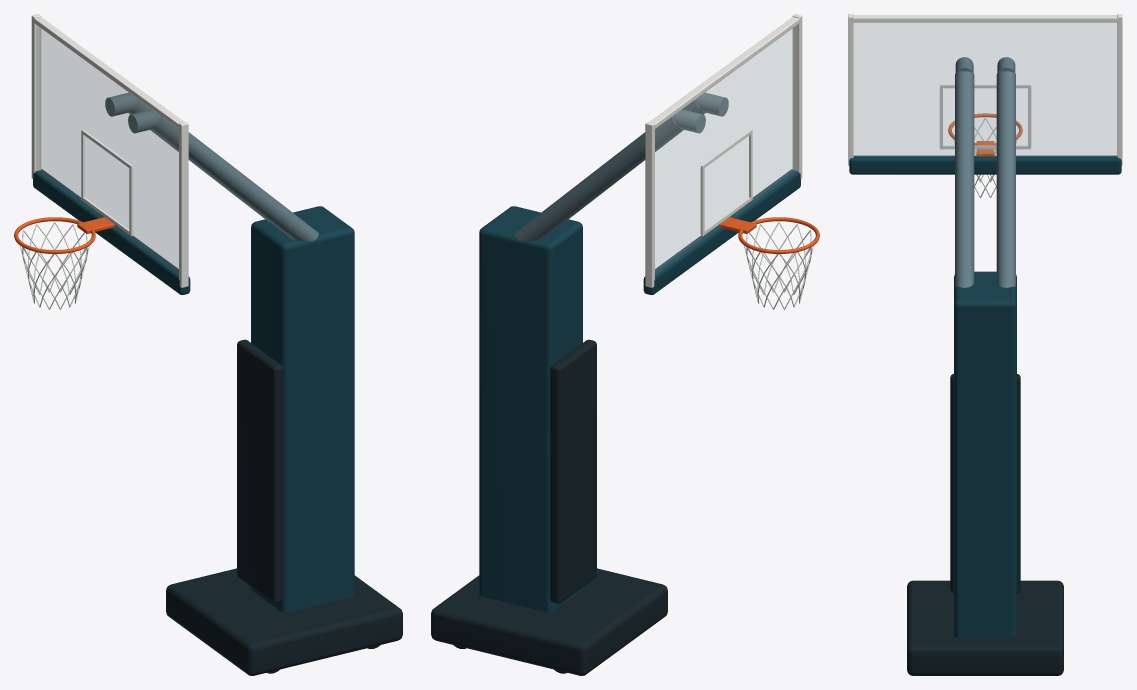
The model's file is hoop.glb.
The picture shows the model from 3 angles, left to right: view 1: azimuth 30°, elevation 25°; view 2: azimuth 150°, elevation 25°; view 3: azimuth 270°, elevation 25°; orthographic projection. The views are drawn at different scales.
Visible parts, largest first — view 1: Goal support mast, Tempered glass backboard, Weighted goal base, Goal safety padding, Cantilever strut.001, Protective backboard padding, Backboard frame.003, Backboard frame, Backboard frame.001, Rim_3_05m_450mm, Board mount, Board mount.001; view 2: Goal support mast, Tempered glass backboard, Weighted goal base, Goal safety padding, Cantilever strut, Protective backboard padding, Backboard frame.003, Backboard frame.001, Backboard frame, Rim_3_05m_450mm, Board mount.001, Board mount; view 3: Tempered glass backboard, Goal support mast, Weighted goal base, Protective backboard padding, Cantilever strut, Cantilever strut.001, Backboard frame.003, Goal safety padding, Backboard frame, Backboard frame.001.
Boxes of the visible parts, box(x1,y1,x2,y2) form: Goal support mast: box(251, 206, 354, 612); Tempered glass backboard: box(37, 26, 178, 274); Weighted goal base: box(166, 568, 402, 675); Goal safety padding: box(237, 339, 283, 603); Cantilever strut.001: box(151, 116, 318, 241); Protective backboard padding: box(33, 169, 190, 294); Backboard frame.003: box(32, 17, 184, 128); Backboard frame: box(31, 14, 41, 178); Backboard frame.001: box(179, 121, 188, 287); Rim_3_05m_450mm: box(14, 217, 95, 253); Board mount: box(105, 92, 138, 116); Board mount.001: box(128, 109, 161, 133); Goal support mast: box(479, 206, 582, 612); Tempered glass backboard: box(655, 26, 796, 274); Weighted goal base: box(431, 568, 667, 675); Goal safety padding: box(550, 339, 596, 603); Cantilever strut: box(515, 116, 682, 241); Protective backboard padding: box(643, 169, 800, 294); Backboard frame.003: box(649, 17, 801, 128); Backboard frame.001: box(792, 14, 802, 178); Backboard frame: box(645, 121, 654, 287); Rim_3_05m_450mm: box(738, 217, 819, 253); Board mount.001: box(695, 92, 728, 116); Board mount: box(672, 109, 705, 133); Tempered glass backboard: box(854, 23, 1116, 156); Goal support mast: box(954, 271, 1016, 637); Weighted goal base: box(907, 580, 1063, 675); Protective backboard padding: box(849, 155, 1121, 174); Cantilever strut: box(996, 71, 1015, 287); Cantilever strut.001: box(955, 71, 974, 287); Backboard frame.003: box(849, 15, 1121, 22); Goal safety padding: box(950, 374, 1020, 592); Backboard frame: box(1117, 14, 1122, 165); Backboard frame.001: box(848, 14, 853, 165).
Size of the model in its own units: 2.42 by 4.07 by 1.83.
